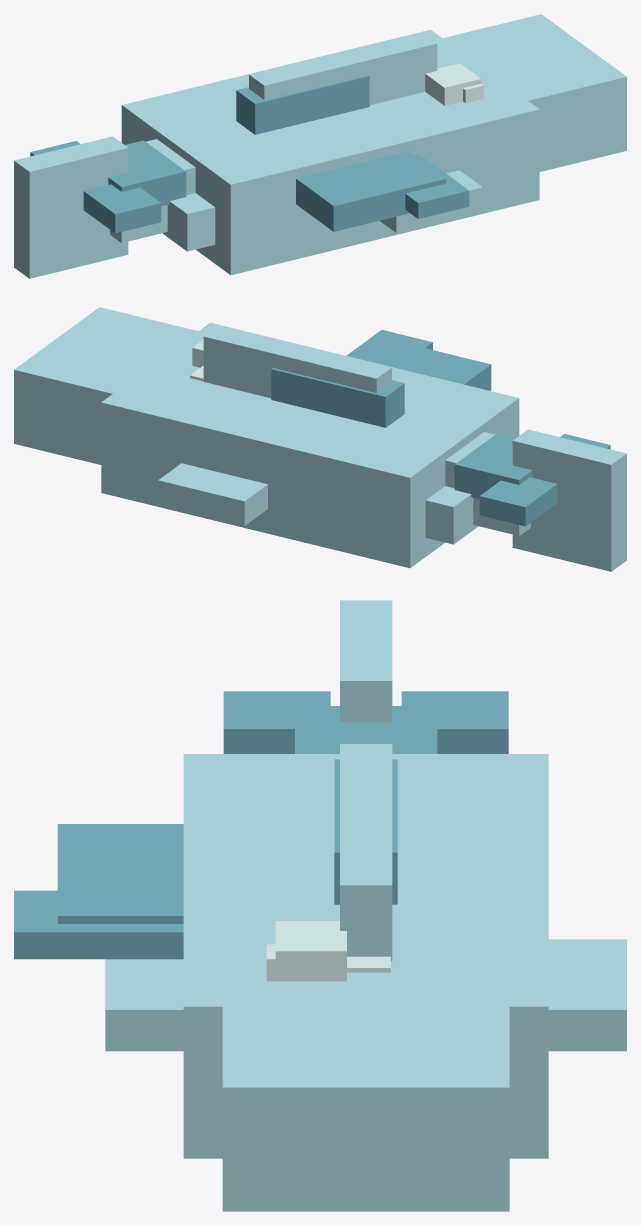
Rendered from fish_crystal_skater.glb.
3 renders of one model, top to bottom at view 1: azimuth 30°, elevation 25°; view 2: azimuth 150°, elevation 25°; view 3: azimuth 270°, elevation 25°, orthographic. The views are drawn at different scales.
Parts seen in each view (by area): view 1: FishArt_body, FishArt_pectoral, FishArt_tail, FishArt_dorsal, FishArt_eye; view 2: FishArt_body, FishArt_tail, FishArt_dorsal, FishArt_pectoral; view 3: FishArt_body, FishArt_pectoral, FishArt_tail, FishArt_eye, FishArt_dorsal.
Boxes of the visible parts, x1,y1,x2,y2 form: FishArt_body: [14, 14, 626, 278]; FishArt_pectoral: [296, 151, 469, 231]; FishArt_tail: [30, 140, 186, 233]; FishArt_dorsal: [236, 75, 369, 134]; FishArt_eye: [425, 63, 483, 105]; FishArt_body: [14, 307, 626, 571]; FishArt_tail: [454, 433, 610, 526]; FishArt_dorsal: [271, 368, 404, 427]; FishArt_pectoral: [346, 330, 491, 390]; FishArt_body: [105, 600, 626, 1211]; FishArt_pectoral: [14, 824, 183, 959]; FishArt_tail: [223, 691, 508, 753]; FishArt_eye: [266, 921, 346, 981]; FishArt_dorsal: [334, 759, 397, 904].
Size of the model in its own units: 0.33 by 0.0762 by 0.1859.
